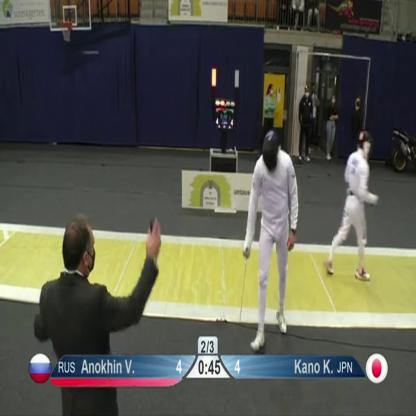crowd: (297, 81, 316, 163), (258, 83, 279, 156), (324, 90, 342, 165)
fencer: (236, 116, 300, 351), (319, 118, 384, 288)
referee: (16, 215, 177, 415)
